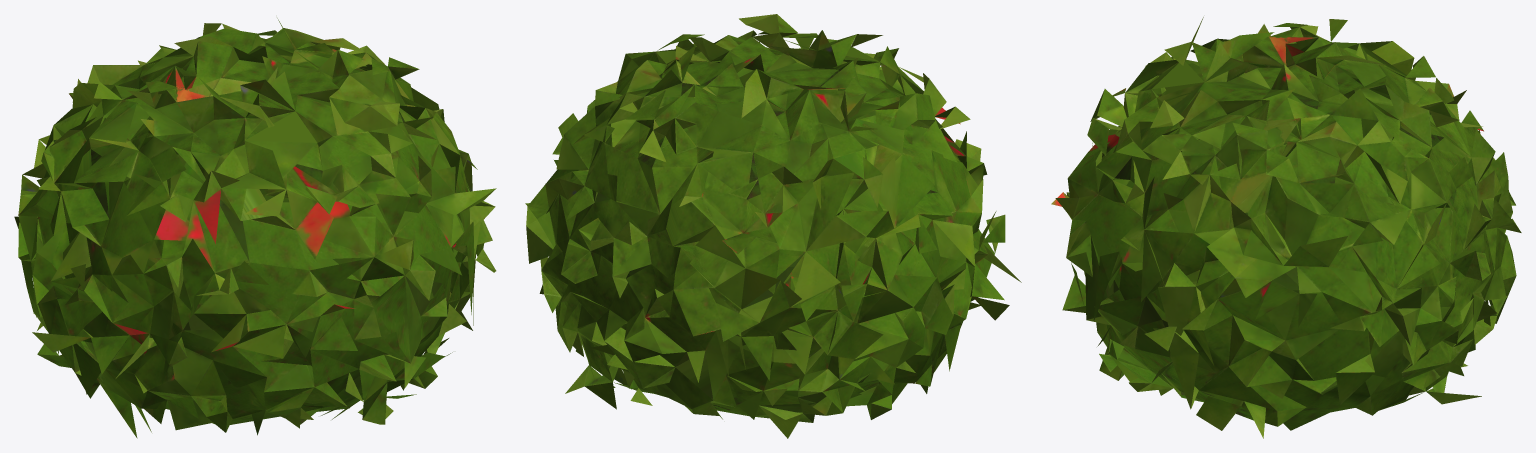
The model's file is berrybush.glb.
3 views of the same model, side by side, from view 1: azimuth 30°, elevation 25°; view 2: azimuth 150°, elevation 25°; view 3: azimuth 270°, elevation 25° (orthographic). The views are drawn at different scales.
Bounding box in the file's own units: 1.8 × 1.34 × 1.73.
Materials: 1 (1 with a texture image).
